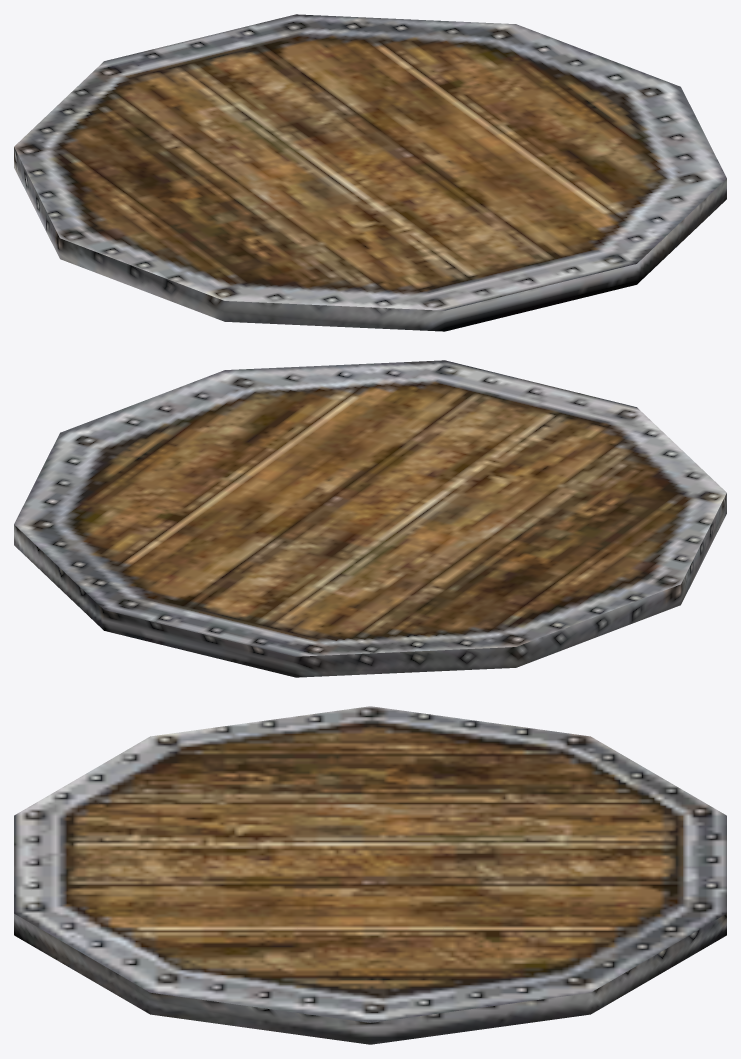
3 views of the same model, one above another, from view 1: azimuth 30°, elevation 25°; view 2: azimuth 150°, elevation 25°; view 3: azimuth 270°, elevation 25° (orthographic). The views are drawn at different scales.
Parts seen in each view (by area): view 1: ms7; view 2: ms7; view 3: ms7.
Part boxes in pixels (box(x1,y1,x2,y2)): ms7: box(14, 14, 726, 331); ms7: box(14, 360, 726, 677); ms7: box(14, 706, 726, 1044).
Size of the model in its own units: 0.5224 by 0.0786 by 0.4968.
Materials: 1 (1 with a texture image).
